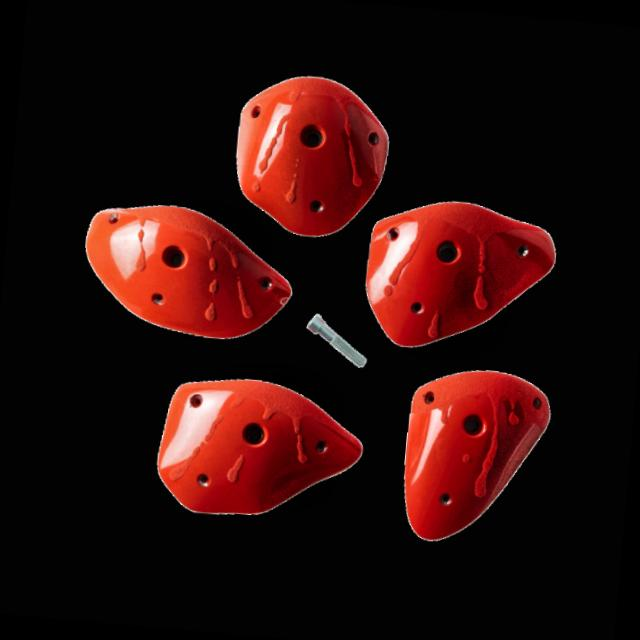Hold: (348, 194, 570, 368), (156, 370, 378, 534), (77, 189, 307, 345), (396, 358, 558, 550), (228, 66, 384, 239)
